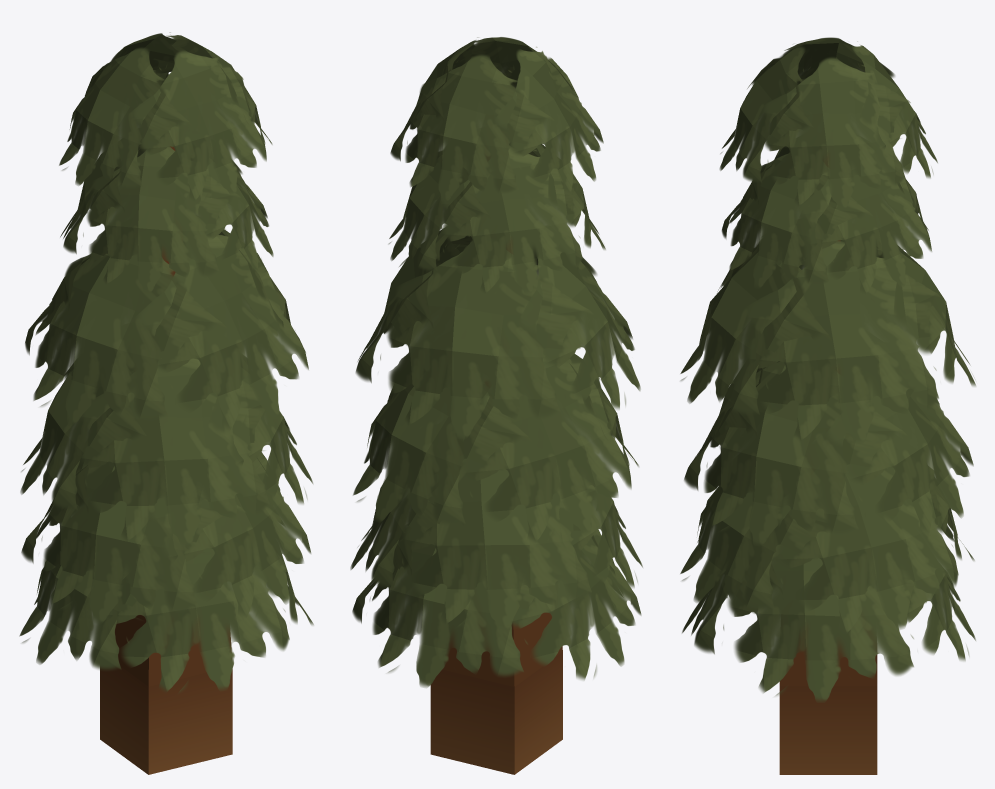
Rendered from TREE.glb.
3 renders of one model, left to right at view 1: azimuth 30°, elevation 25°; view 2: azimuth 150°, elevation 25°; view 3: azimuth 270°, elevation 25°, orthographic.
Parts seen in each view (by area): view 1: Plane.009, Plane.014, Plane.013, Cube, Plane.005, Plane.018, Plane.003, Plane.022, Plane.007, Plane.020, Plane.010, Plane.001 (+9 smaller); view 2: Plane.012, Plane.006, Plane.010, Cube, Plane.008, Plane.023, Plane.016, Plane.002, Plane.014, Plane.001, Plane.020, Plane.019 (+8 smaller); view 3: Plane.015, Plane.011, Plane.004, Plane, Plane.021, Cube, Plane.013, Plane.008, Plane.017, Plane.019, Plane.007, Plane.022 (+8 smaller).
Part boxes in pixels (bbox=[...]): Plane.009: bbox=[78, 358, 269, 546]; Plane.014: bbox=[33, 238, 226, 424]; Plane.013: bbox=[135, 229, 308, 429]; Cube: bbox=[100, 146, 232, 774]; Plane.005: bbox=[43, 457, 245, 623]; Plane.018: bbox=[86, 146, 240, 292]; Plane.003: bbox=[107, 541, 289, 692]; Plane.022: bbox=[131, 50, 266, 200]; Plane.007: bbox=[151, 452, 311, 617]; Plane.020: bbox=[59, 47, 192, 188]; Plane.010: bbox=[20, 369, 149, 510]; Plane.001: bbox=[19, 548, 166, 670]; Plane.012: bbox=[387, 241, 592, 438]; Plane.006: bbox=[403, 459, 597, 630]; Plane.010: bbox=[449, 353, 631, 542]; Cube: bbox=[430, 156, 562, 774]; Plane.008: bbox=[353, 364, 531, 525]; Plane.023: bbox=[405, 54, 554, 201]; Plane.016: bbox=[440, 145, 582, 293]; Plane.002: bbox=[372, 526, 559, 687]; Plane.014: bbox=[519, 237, 640, 409]; Plane.001: bbox=[512, 529, 641, 680]; Plane.020: bbox=[495, 47, 603, 192]; Plane.019: bbox=[389, 155, 490, 270]; Plane.015: bbox=[745, 240, 940, 443]; Plane.011: bbox=[704, 361, 906, 545]; Plane.004: bbox=[775, 465, 958, 633]; Plane: bbox=[727, 544, 926, 702]; Plane.021: bbox=[762, 57, 910, 209]; Cube: bbox=[779, 155, 877, 774]; Plane.013: bbox=[680, 246, 831, 414]; Plane.008: bbox=[827, 367, 973, 533]; Plane.017: bbox=[729, 154, 872, 288]; Plane.019: bbox=[798, 154, 931, 293]; Plane.007: bbox=[680, 469, 830, 610]; Plane.022: bbox=[719, 46, 815, 182].
Bounding box in the file's own units: 6.24 × 16.02 × 6.23.
Materials: 2 (2 with a texture image).
